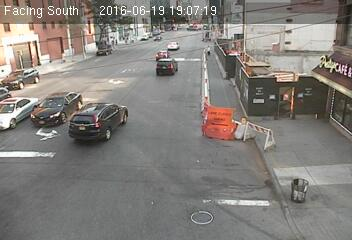neg: (99, 41, 109, 54)
